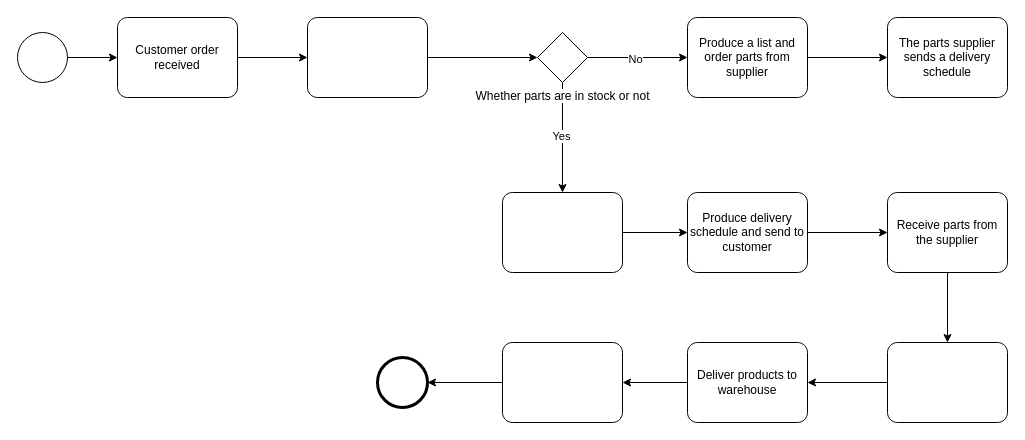
This 1025x440 diagram has some shape labels left out. Each missing label, with the box of its shape:
Assemble products: (886, 342, 1008, 422)
Check parts availability: (306, 16, 428, 98)
Complete work order: (502, 342, 622, 422)
Produce a work order: (502, 192, 622, 272)
